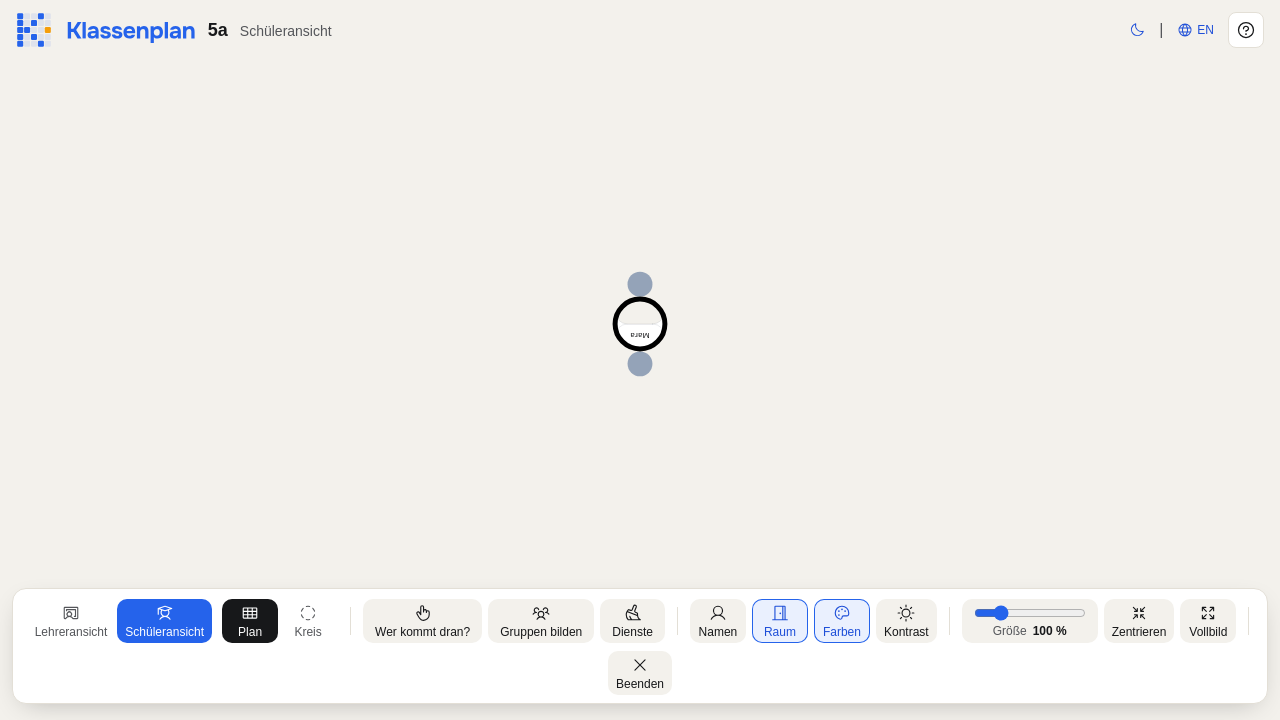
it: Present › switches to the teacher view and back from the bar
The image size is (1280, 720).
Click the button "Lehreransicht": (71, 621) [27,599,115,643]
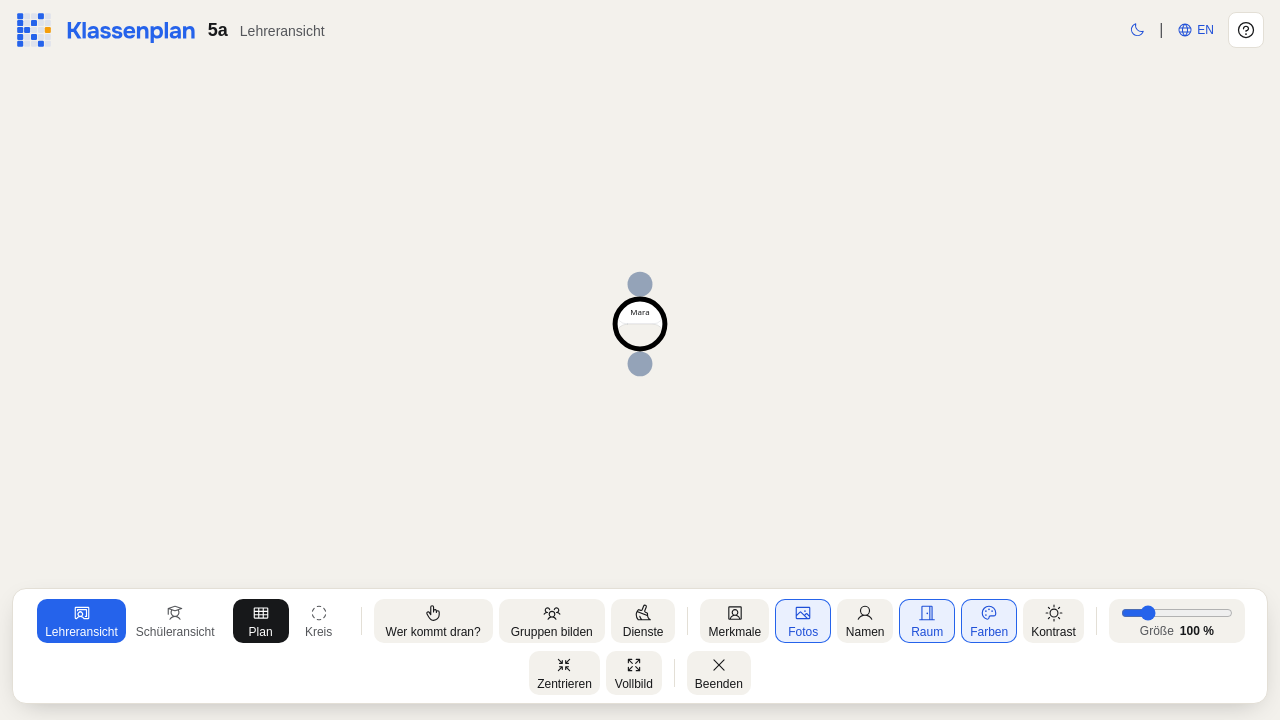
Now the button "Merkmale" is shown, box [700,599,769,643]
Now the button "Fotos" is shown, box [775,599,831,643]
